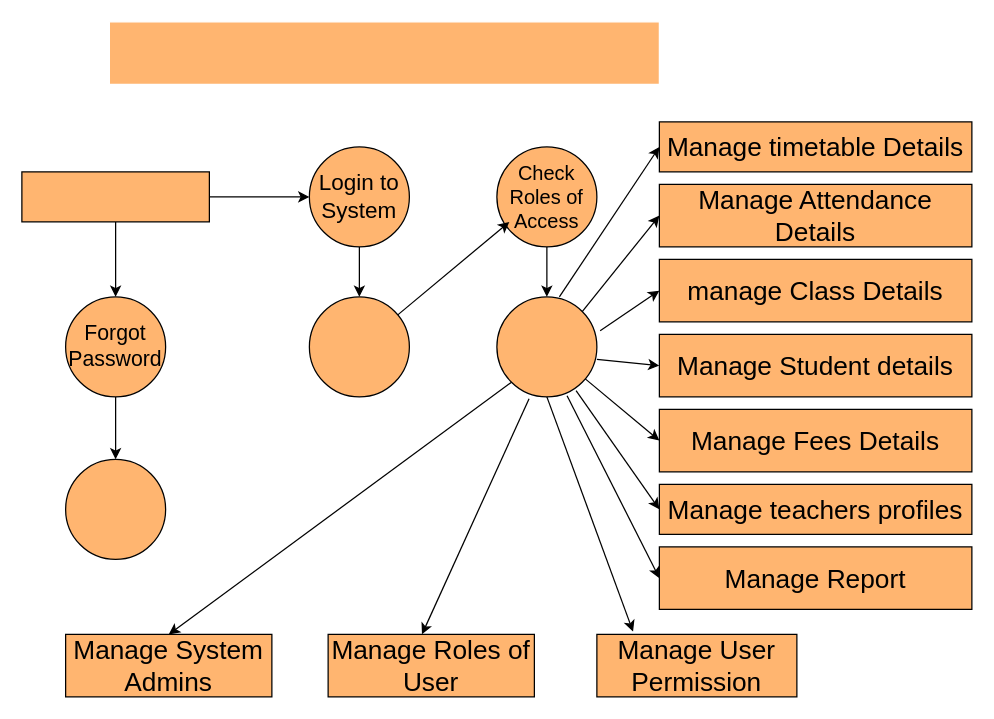
This 994x719 diagram has some shape labels left out. Here are the shapes that lost their labels. From the top down, the centre of each, then its label:
At pixel 383 52: "Student information System".
At pixel 115 196: "Admin".
At pixel 358 346: "Check Credentials".
At pixel 546 346: "Manage Modules".
At pixel 115 508: "Send Email to User".
